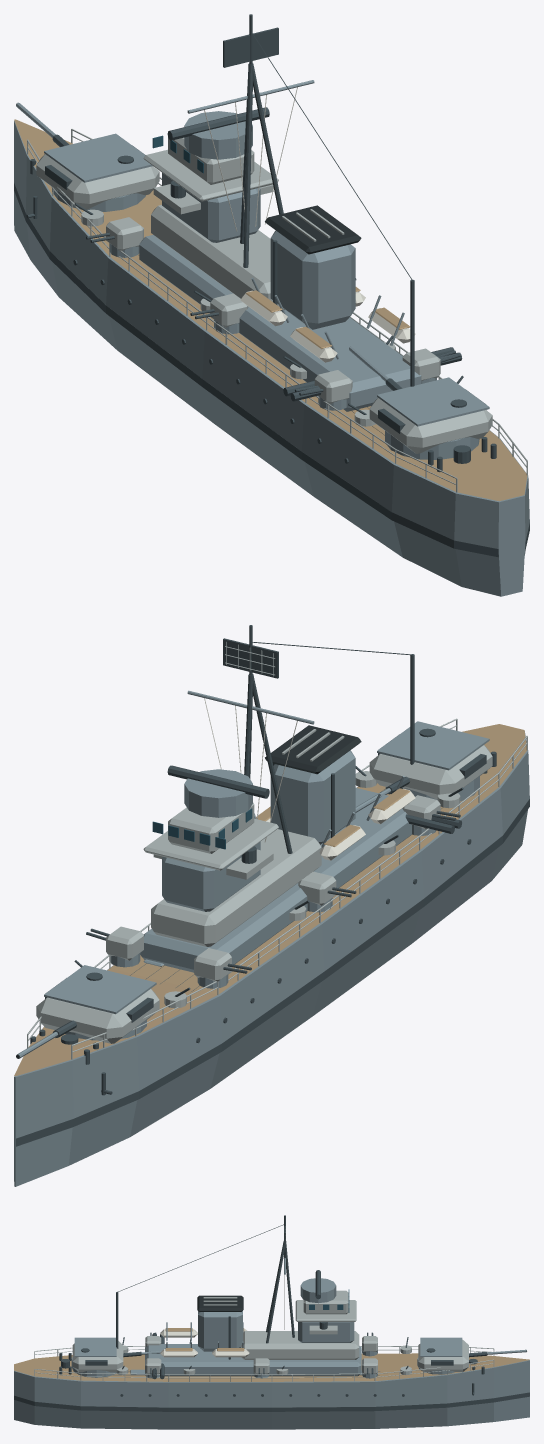
Rendered from destroyer.glb.
3 renders of one model, top to bottom at view 1: azimuth 30°, elevation 25°; view 2: azimuth 150°, elevation 25°; view 3: azimuth 270°, elevation 25°, orthographic. The views are drawn at different scales.
Visible parts, largest first — view 1: destroyer_StaticDetail, MainTurret_1.002_Guns, MainTurret_0.002_Guns; view 2: destroyer_StaticDetail, MainTurret_0.002_Guns, MainTurret_1.002_Guns; view 3: destroyer_StaticDetail, MainTurret_1.002_Guns, MainTurret_0.002_Guns.
Boxes of the visible parts, x1=… form: destroyer_StaticDetail: x1=14, y1=14, x2=529, y2=596; MainTurret_1.002_Guns: x1=349, y1=346, x2=492, y2=459; MainTurret_0.002_Guns: x1=16, y1=102, x2=159, y2=211; destroyer_StaticDetail: x1=14, y1=625, x2=529, y2=1186; MainTurret_0.002_Guns: x1=16, y1=965, x2=159, y2=1058; MainTurret_1.002_Guns: x1=355, y1=721, x2=492, y2=812; destroyer_StaticDetail: x1=14, y1=1215, x2=529, y2=1429; MainTurret_1.002_Guns: x1=71, y1=1337, x2=161, y2=1377; MainTurret_0.002_Guns: x1=417, y1=1337, x2=526, y2=1374.
Bounding box in the file's own units: 10.68 × 23.7 × 55.
